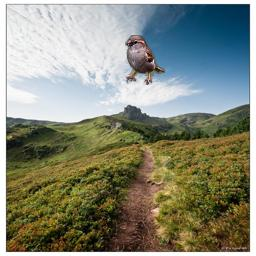Sparrow: (125, 35, 165, 85)
